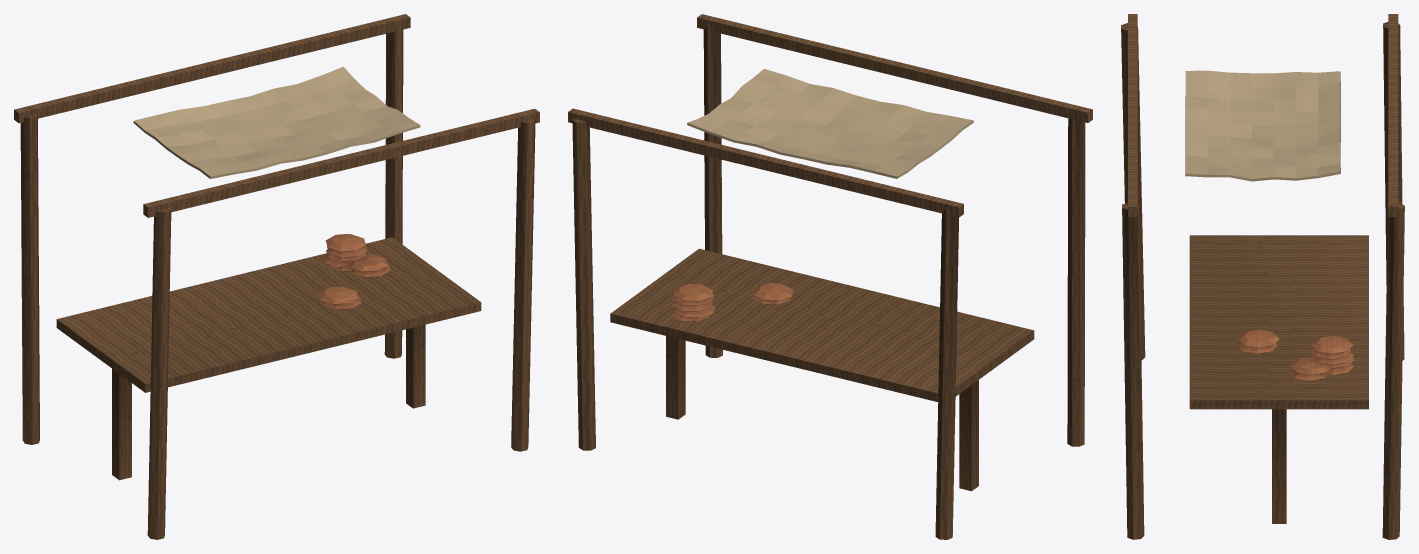
Rendered from canopy_bread.glb.
The picture shows the model from 3 angles, left to right: view 1: azimuth 30°, elevation 25°; view 2: azimuth 150°, elevation 25°; view 3: azimuth 270°, elevation 25°; orthographic projection.
Parts seen in each view (by area): view 1: canopy_bread; view 2: canopy_bread; view 3: canopy_bread.
Part boxes in pixels (x1,y1,x2,y2): canopy_bread: (14,14,539,539); canopy_bread: (568,14,1092,539); canopy_bread: (1121,14,1404,539).
Size of the model in its own units: 2.8 by 2.29 by 1.74.
3 materials, 3 textured.
